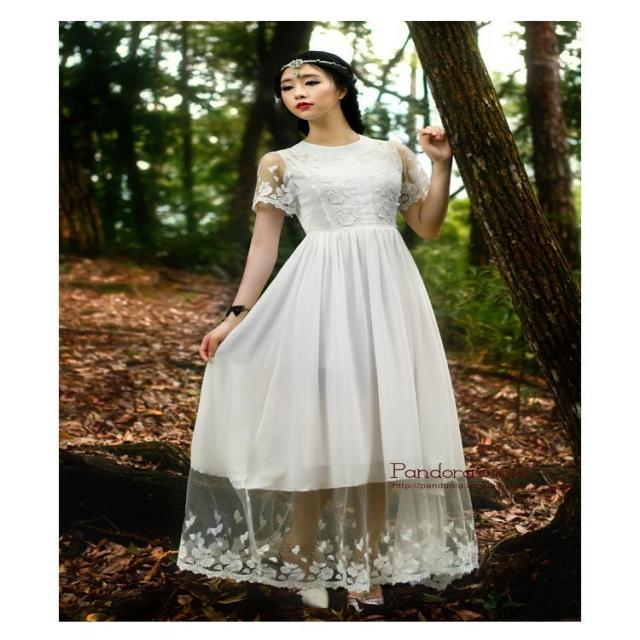short sleeve dress: (177, 135, 474, 588)
